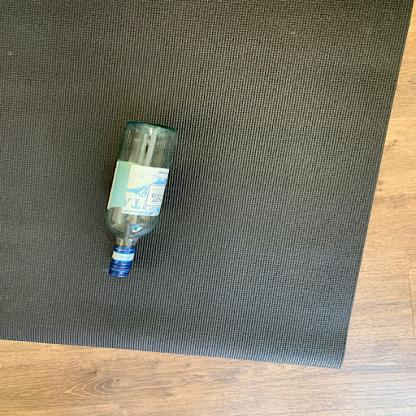trash: (95, 124, 185, 282)
